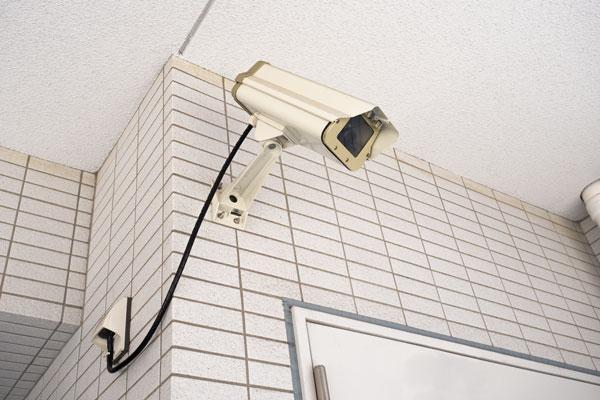tutu: (217, 50, 409, 178)
